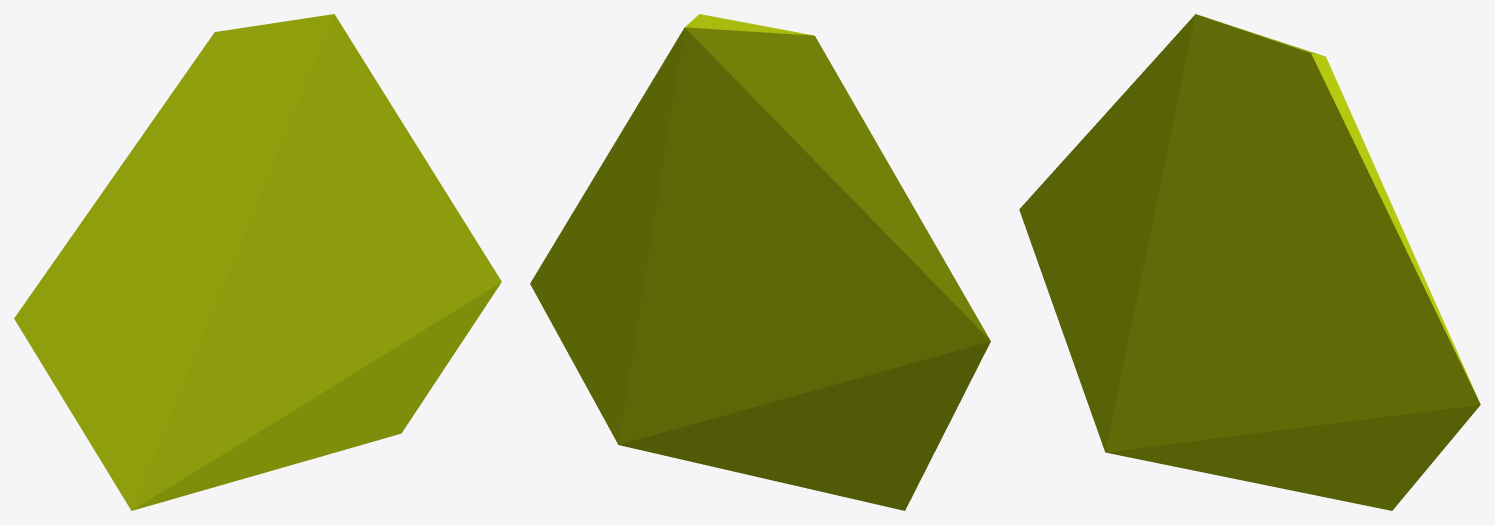
File: torso_convex_piece_053.obj
3 renders of one model, left to right at view 1: azimuth 30°, elevation 25°; view 2: azimuth 150°, elevation 25°; view 3: azimuth 330°, elevation 25°, orthographic.
Bounding box in the file's own units: 0.1004 × 0.0922 × 0.00583.
